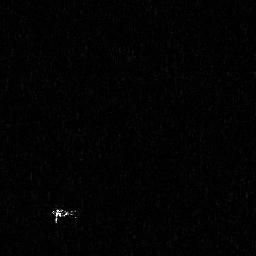ship: (50, 205, 80, 223)
